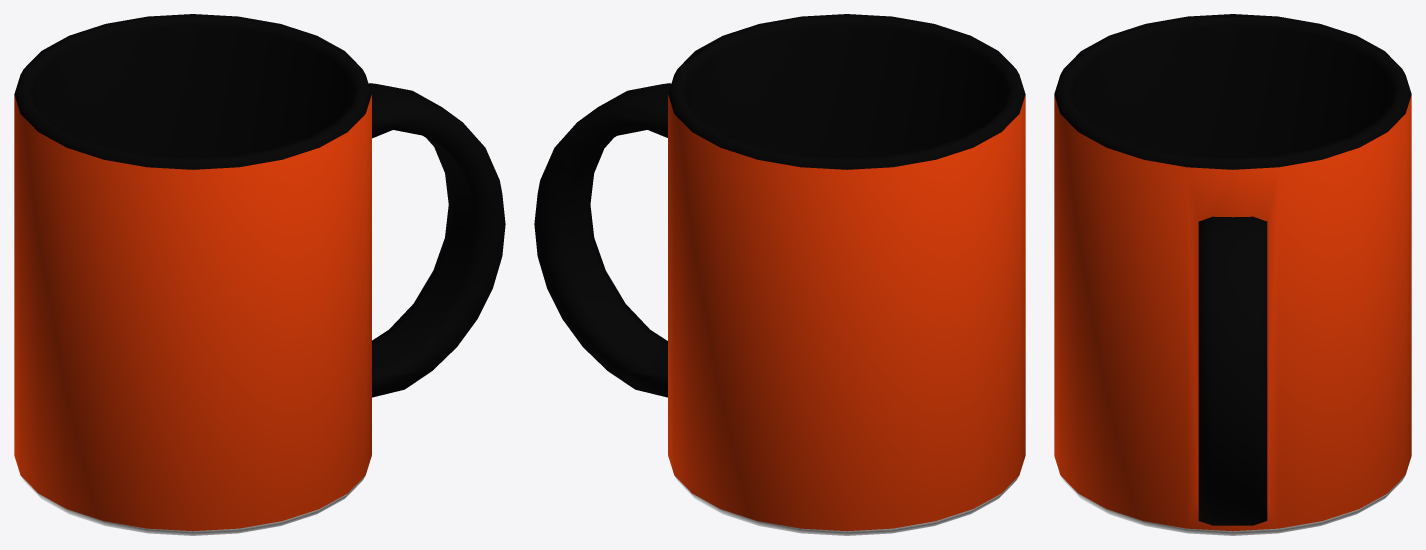
File: mug_11_origin_gt_7.dae
The picture shows the model from 3 angles, left to right: view 1: azimuth 30°, elevation 25°; view 2: azimuth 150°, elevation 25°; view 3: azimuth 270°, elevation 25°; orthographic projection.
Visible parts, largest first — view 1: SketchUp (×5); view 2: SketchUp (×5); view 3: SketchUp (×5).
Boxes of the visible parts, left/top/right/bottom form: SketchUp (×5): left=14, top=14, right=505, bottom=535; SketchUp (×5): left=534, top=14, right=1025, bottom=535; SketchUp (×5): left=1054, top=14, right=1411, bottom=535.
Bounding box in the file's own units: 4.79 × 3.25 × 3.75.
